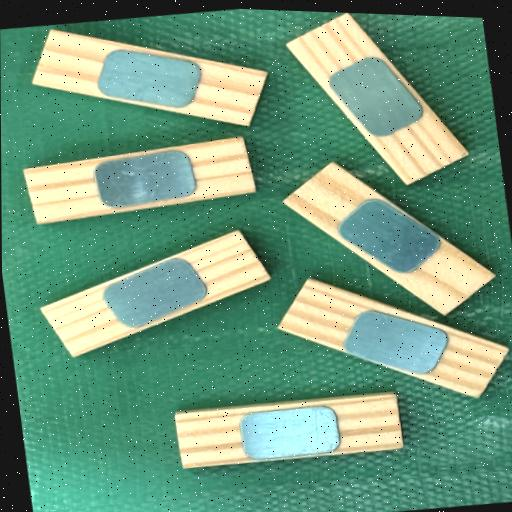objects: (282, 151, 497, 328), (284, 0, 469, 198), (40, 225, 272, 361), (279, 274, 510, 403), (32, 28, 268, 129), (24, 136, 256, 226), (176, 393, 404, 469)
